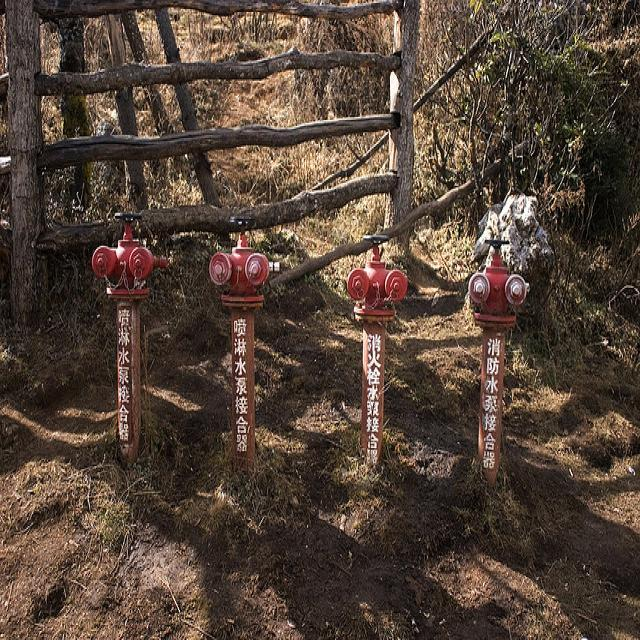fire_hydrant: (207, 214, 270, 474), (94, 211, 153, 468), (346, 227, 406, 473), (470, 236, 528, 476)
